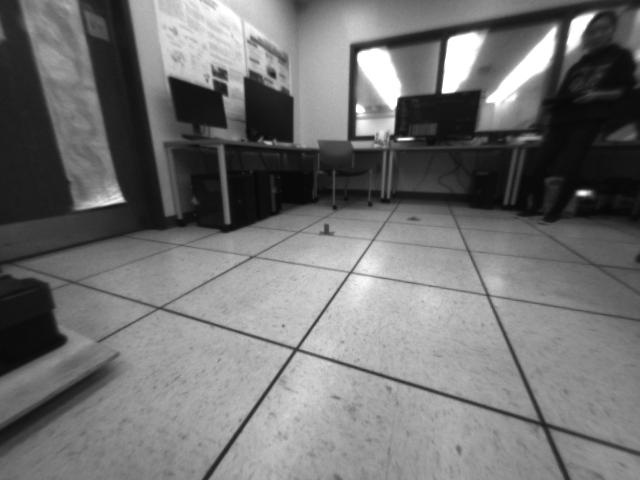X: (317, 222, 337, 238)
